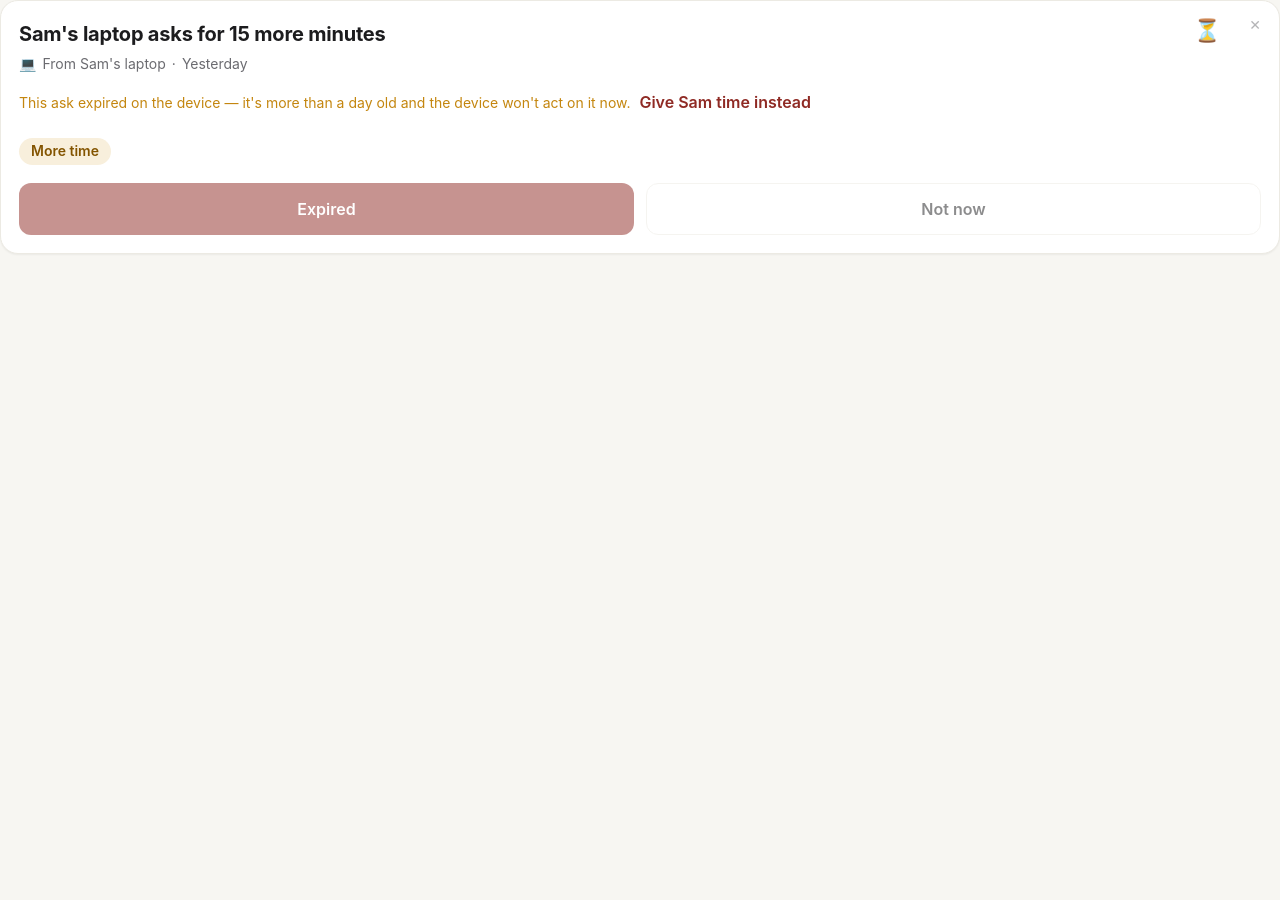
Test: RequestCard › an expired time ask offers Give time instead, which opens the give sheet
Expected: the button "Expired" is disabled, [19, 183, 634, 235]
Click the button "Give Sam time instead".
click(725, 102)  # box [634, 78, 816, 126]
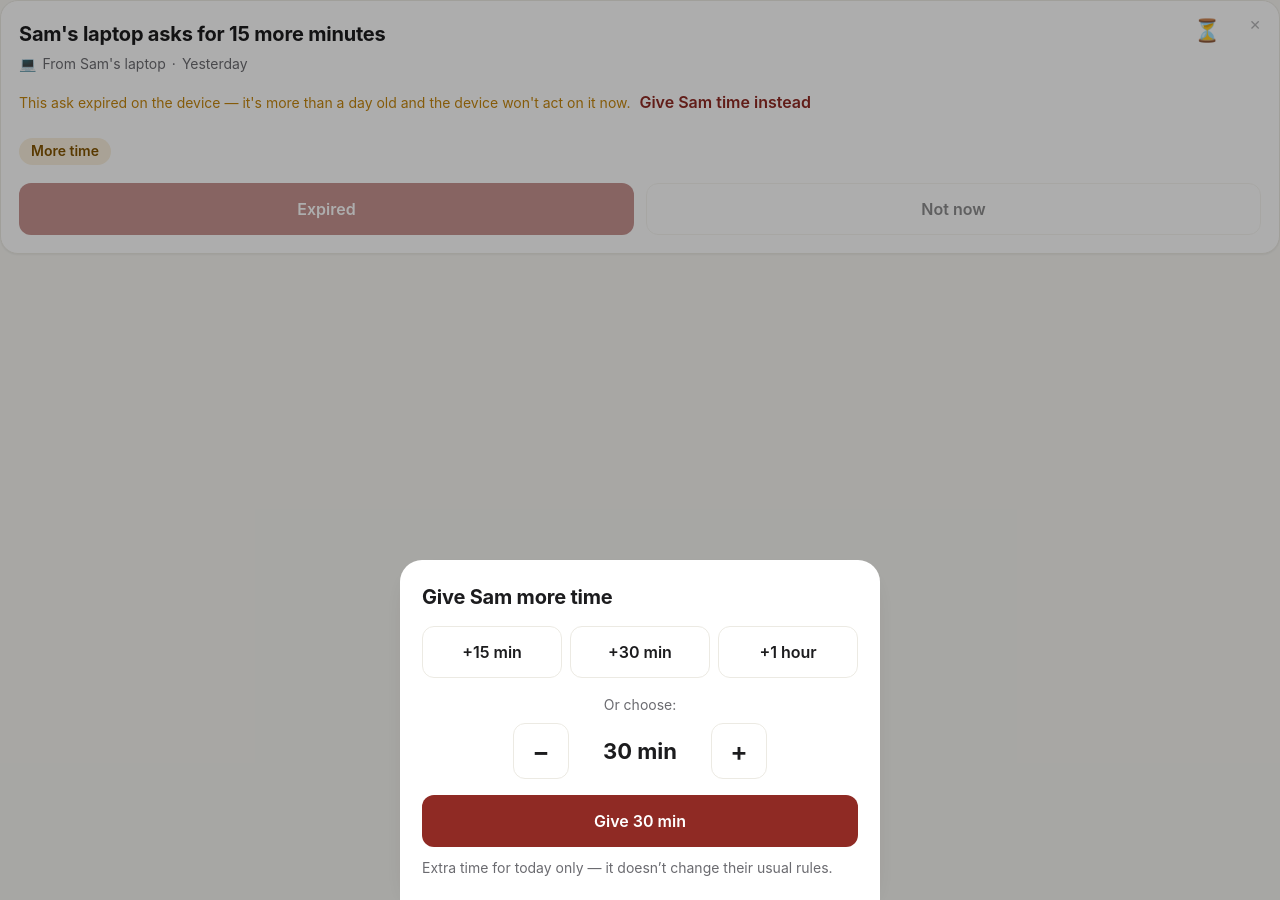
Expected: the text "Give Sam more time" is shown, [422, 585, 612, 609]
Expected: the button "+15 min" is shown, [422, 626, 562, 678]
